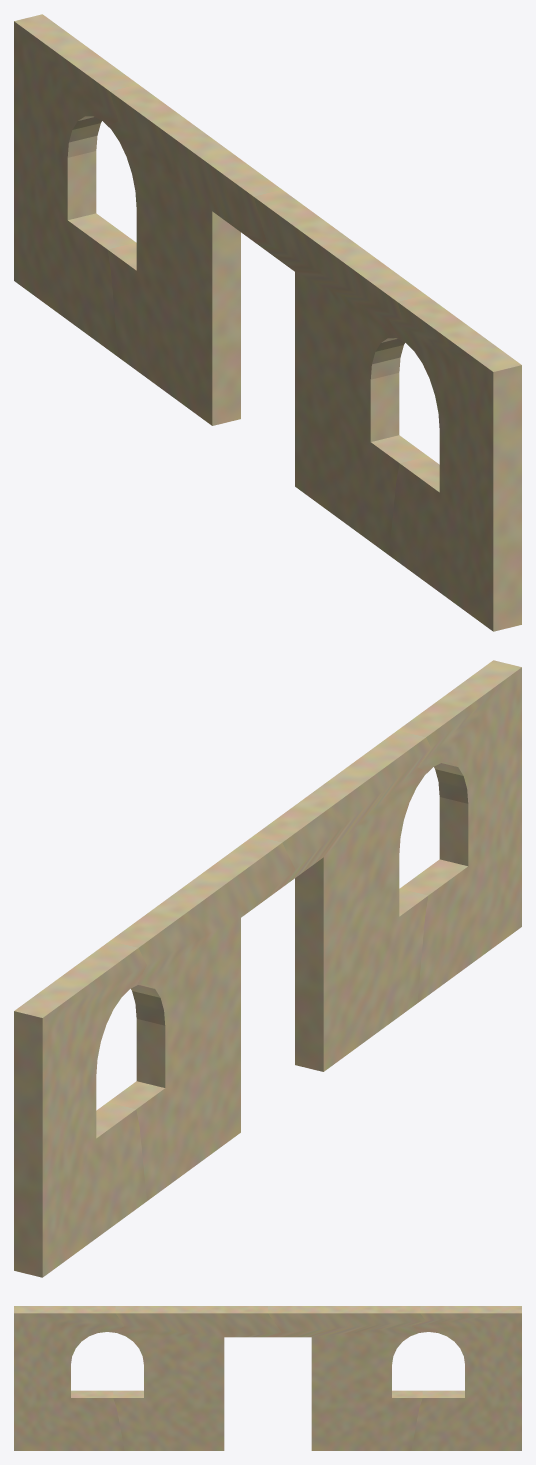
Rendered from SM_HH_V2_Walls_Front.fbx.
3 views of the same model, one above another, from view 1: azimuth 30°, elevation 25°; view 2: azimuth 150°, elevation 25°; view 3: azimuth 270°, elevation 25° (orthographic). The views are drawn at different scales.
Parts seen in each view (by area): view 1: HH_V2_Walls_Front; view 2: HH_V2_Walls_Front; view 3: HH_V2_Walls_Front.
Part boxes in pixels (x1,y1,x2,y2): HH_V2_Walls_Front: (14, 14, 521, 631); HH_V2_Walls_Front: (14, 660, 521, 1277); HH_V2_Walls_Front: (14, 1306, 521, 1450).
Size of the model in its own units: 8.7 by 0.3 by 2.6.
